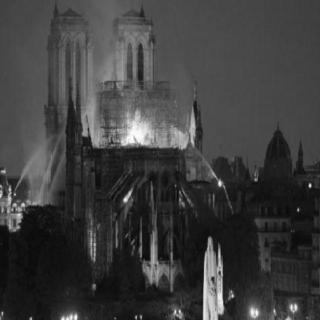other: (217, 174, 223, 192)
